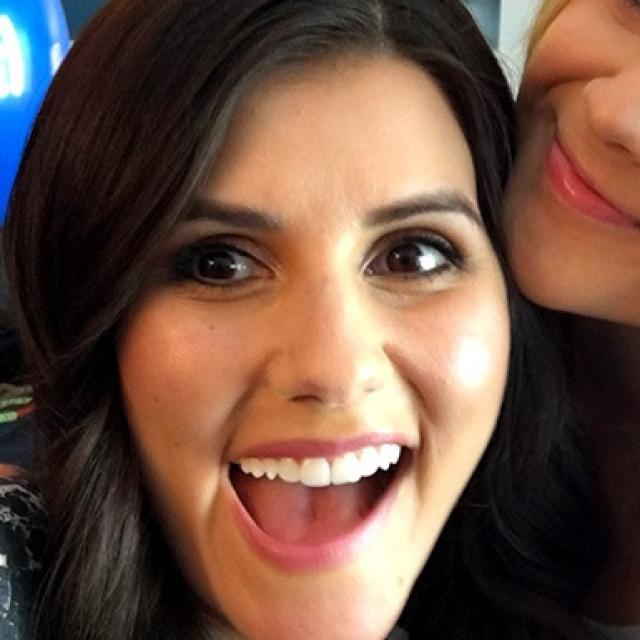Normal: (120, 48, 512, 638)
